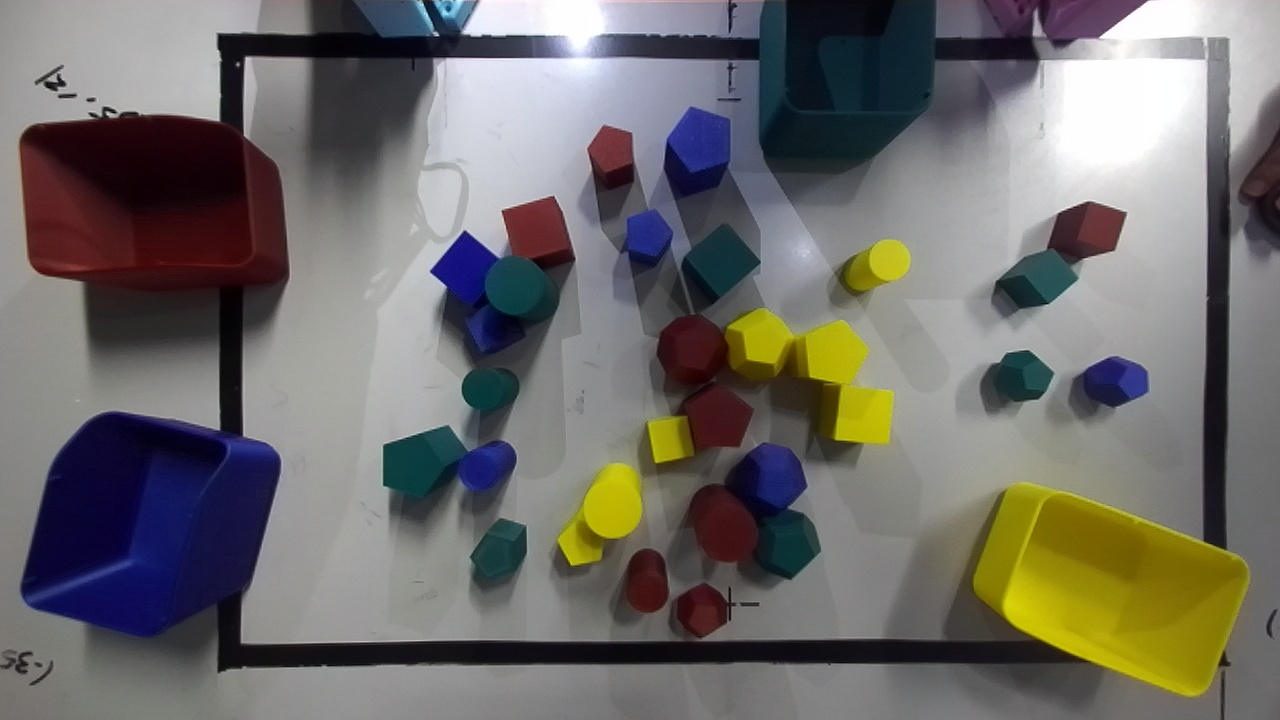bin: (973, 482, 1248, 695), (21, 412, 280, 635), (19, 115, 288, 290), (760, 0, 933, 156)
cube: (681, 224, 760, 302), (502, 196, 574, 268), (430, 231, 497, 304), (997, 249, 1077, 307), (1047, 202, 1126, 258), (817, 385, 893, 443), (464, 303, 524, 353), (646, 416, 694, 463)
cylinder: (690, 484, 757, 561), (485, 256, 558, 323), (582, 463, 642, 538), (840, 239, 910, 292), (458, 441, 516, 491), (625, 549, 668, 612), (462, 369, 518, 411)
dodecahedron: (725, 442, 806, 515), (724, 308, 793, 380), (656, 315, 727, 384), (754, 509, 820, 577), (1083, 357, 1148, 406), (993, 350, 1053, 400), (676, 583, 727, 637)
hexagonal: (383, 426, 466, 496), (664, 107, 729, 195), (792, 320, 867, 383), (680, 384, 752, 449), (470, 518, 526, 583), (623, 209, 672, 267), (588, 125, 633, 188), (557, 510, 604, 565)
